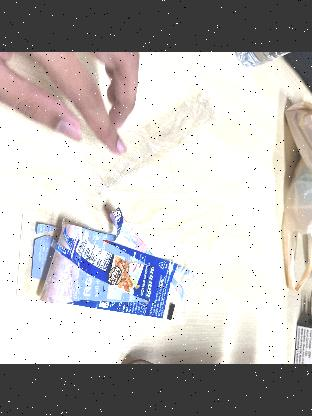Others: (14, 207, 200, 332), (80, 82, 214, 202)
